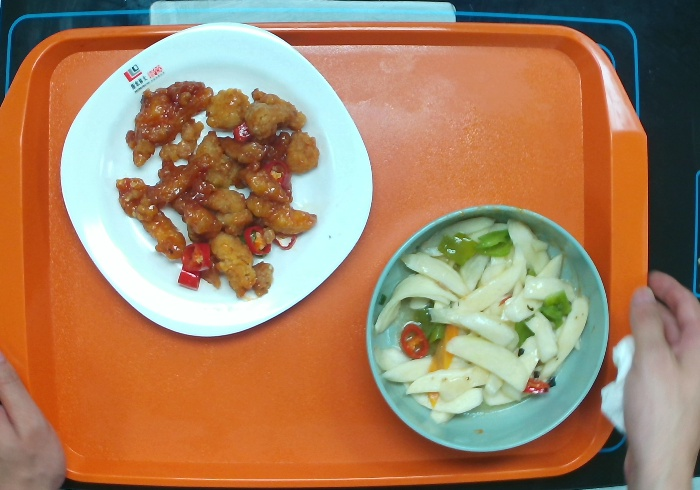ZNLD-Qing_Hua_Yuan_Wan: (361, 200, 611, 456)
ZNLD-Yuan_Jiao_Pan: (56, 17, 375, 341)
